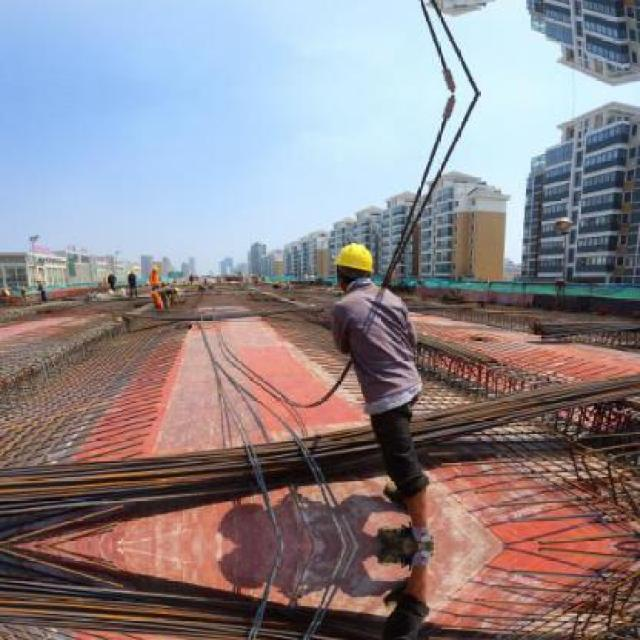helmet: (331, 238, 377, 291)
